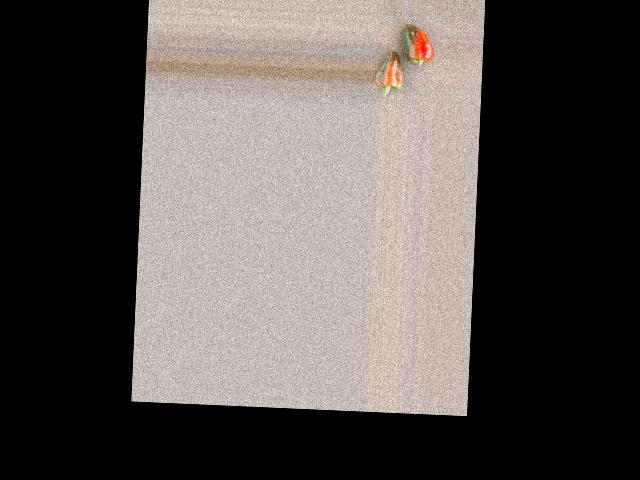bell_pepper: (401, 21, 437, 80)
